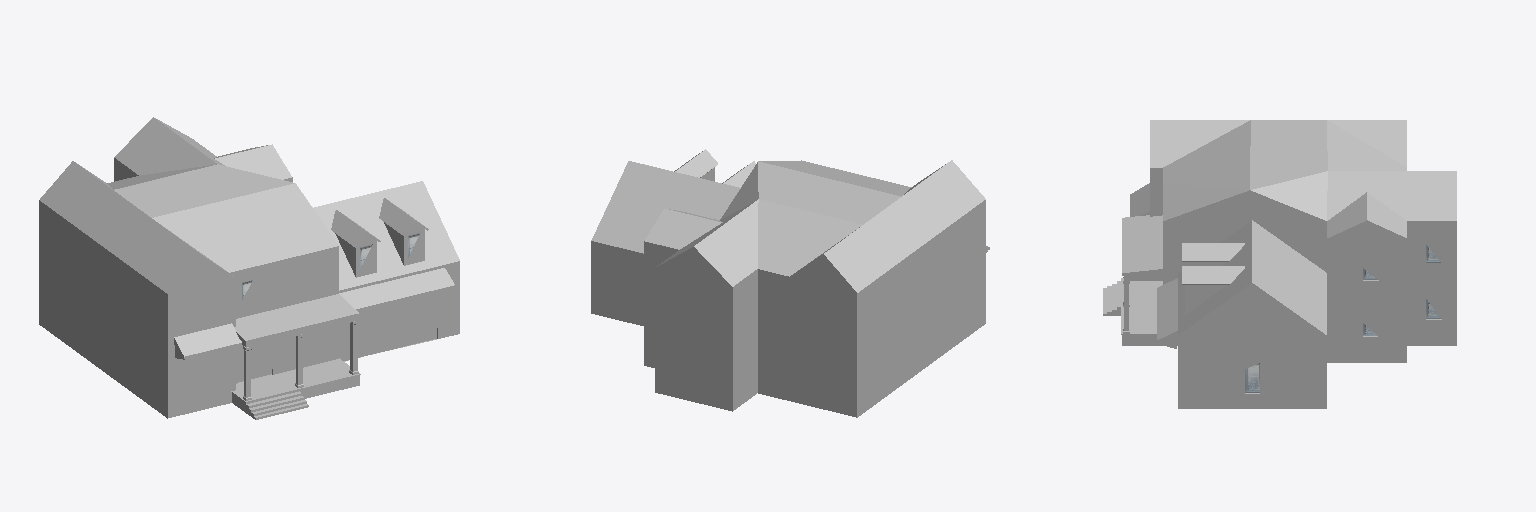
The picture shows the model from 3 angles: view 1: azimuth 30°, elevation 25°; view 2: azimuth 150°, elevation 25°; view 3: azimuth 270°, elevation 25°; orthographic projection.
Visible parts, largest first — view 1: Casa.001; view 2: Casa.001; view 3: Casa.001.
Part boxes in pixels (left/top/right/bottom): Casa.001: left=39, top=117, right=459, bottom=419; Casa.001: left=591, top=149, right=989, bottom=417; Casa.001: left=1103, top=120, right=1456, bottom=408.
Size of the model in its own units: 17.5 by 8.49 by 17.53.
Materials: 8 (1 with a texture image).